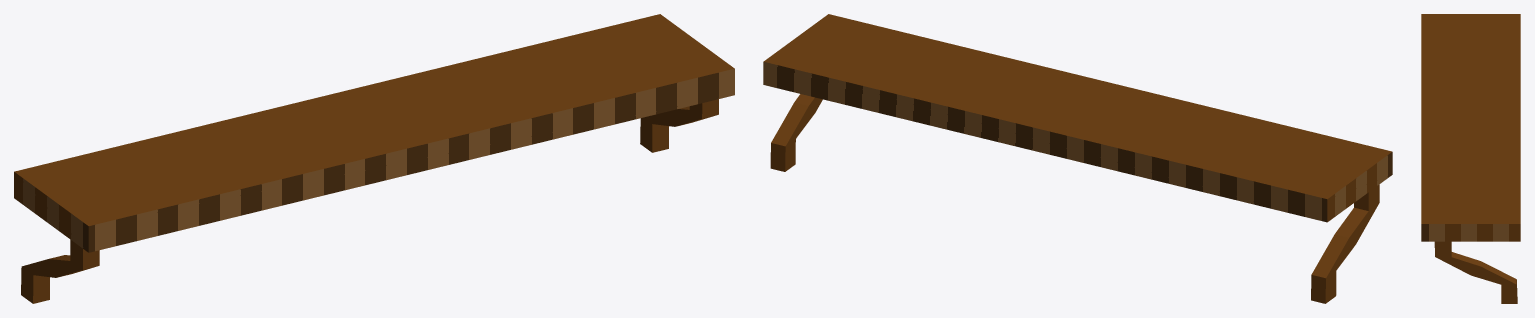
File: bookshelf_919x02.gltf
3 renders of one model, left to right at view 1: azimuth 30°, elevation 25°; view 2: azimuth 150°, elevation 25°; view 3: azimuth 270°, elevation 25°, orthographic. The views are drawn at different scales.
Parts seen in each view (by area): view 1: bookshelf_919x02; view 2: bookshelf_919x02; view 3: bookshelf_919x02.
Part boxes in pixels (x1,y1,x2,y2): bookshelf_919x02: (14,14,734,303); bookshelf_919x02: (763,14,1392,303); bookshelf_919x02: (1421,14,1520,303).
Size of the model in its own units: 5 by 0.9081 by 1.
1 material, 1 textured.
